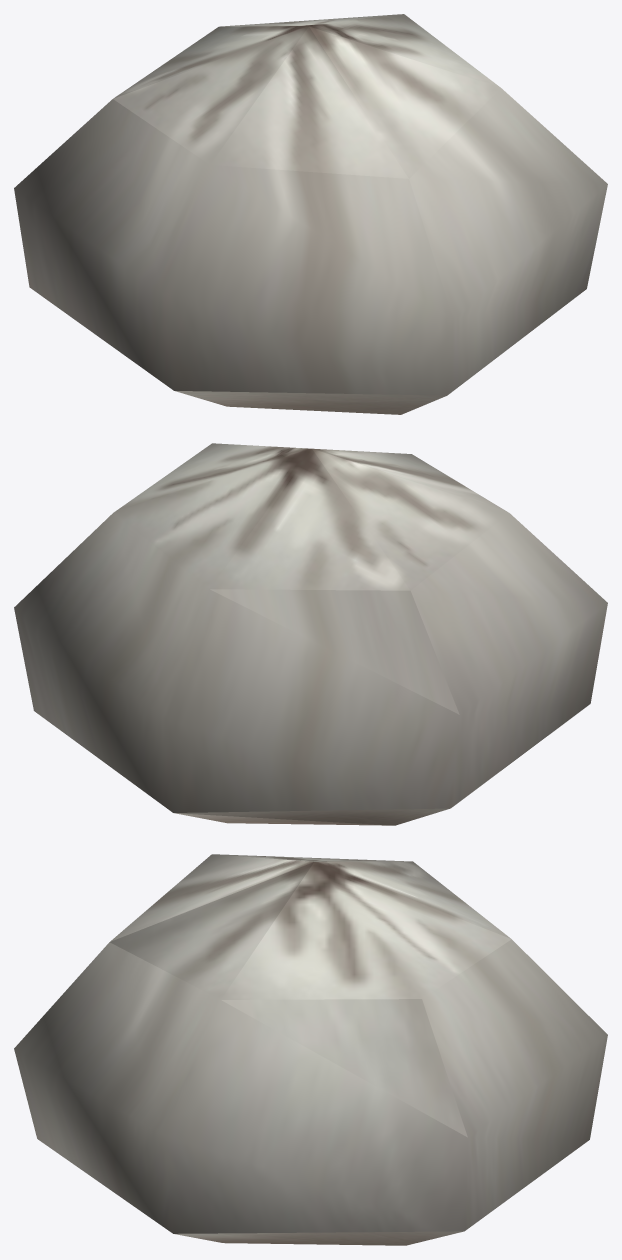
The model's file is Item0102.FBX.
The picture shows the model from 3 angles, top to bottom: view 1: azimuth 30°, elevation 25°; view 2: azimuth 150°, elevation 25°; view 3: azimuth 270°, elevation 25°; orthographic projection. The views are drawn at different scales.
Visible parts, largest first — view 1: Item0102; view 2: Item0102; view 3: Item0102.
Part boxes in pixels (left/top/right/bottom): Item0102: left=14, top=14, right=607, bottom=414; Item0102: left=14, top=443, right=607, bottom=825; Item0102: left=14, top=854, right=607, bottom=1245.
Size of the model in its own units: 8.23 by 5.6 by 9.26.
Materials: 1 (1 with a texture image).
